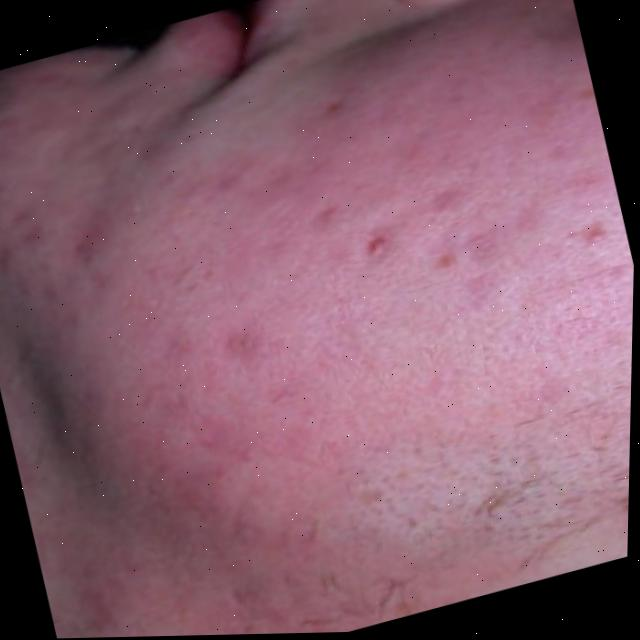Acne: (80, 53, 609, 564)
